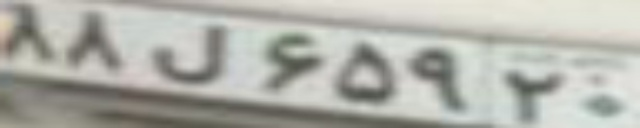0: (581, 93, 627, 119)
2: (506, 70, 564, 122)
5: (332, 39, 393, 105)
6: (254, 31, 323, 94)
8: (65, 10, 121, 76), (2, 3, 55, 63)
9: (410, 46, 464, 111)
lam: (153, 24, 226, 82)
